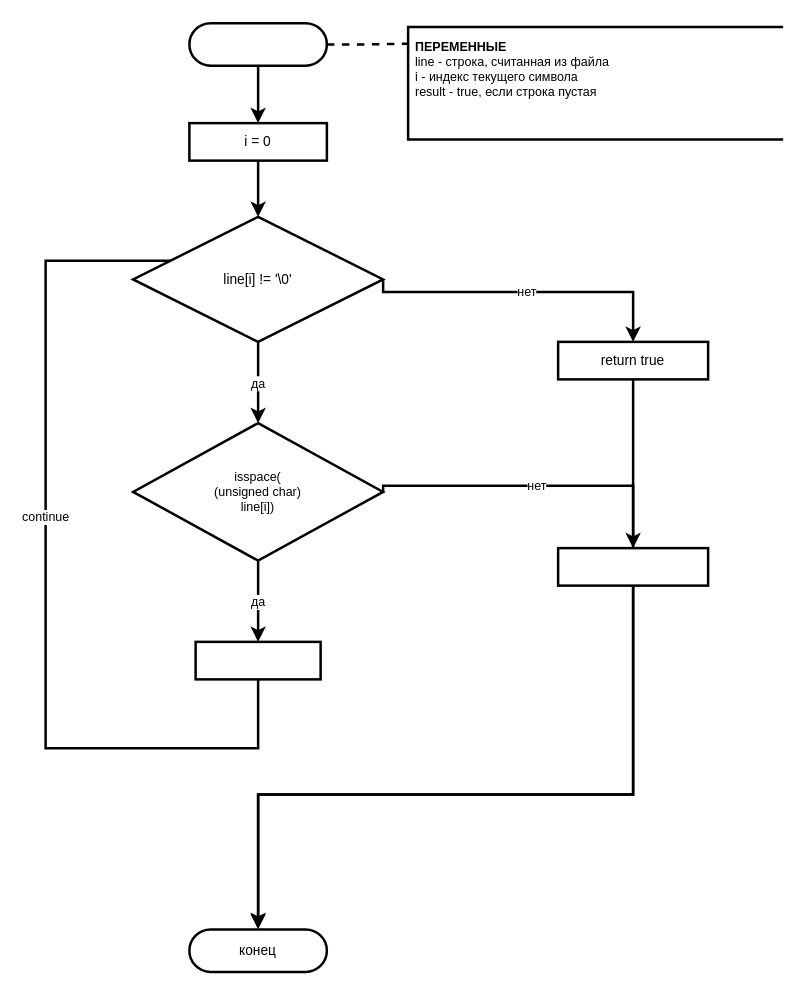
Image size: 805x994. Some labels were removed from this diagram. Each missing label, with the centre of its shape:
i++: the point at 257,660
return false: the point at 632,566
начало: the point at 258,43
